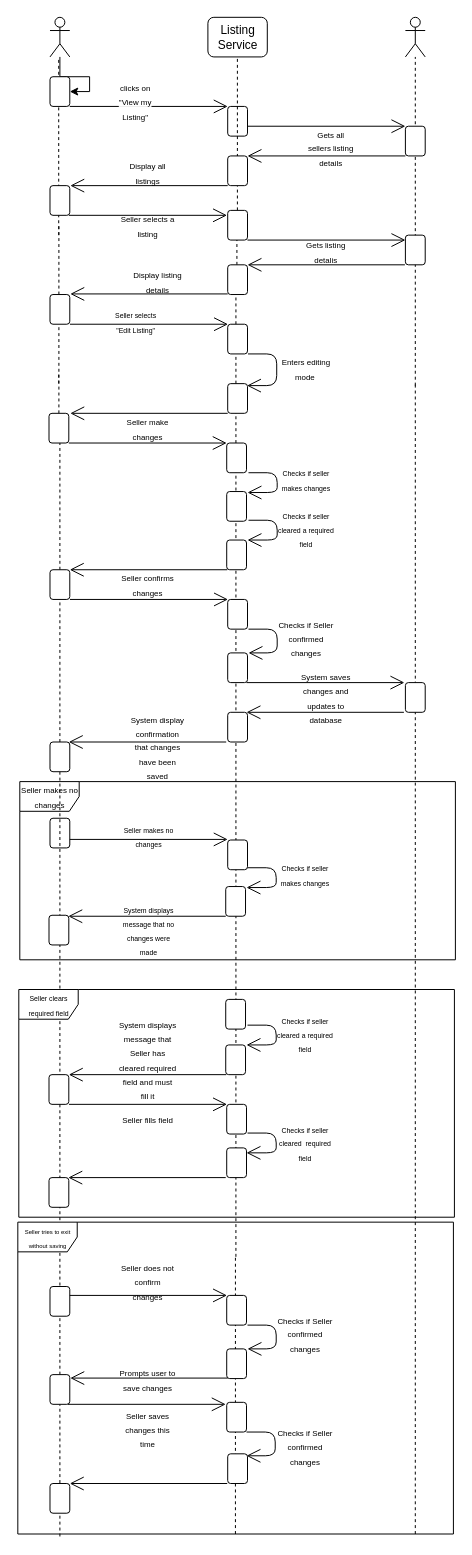
Image size: 472x1555. Some labels were removed from this diagram. Here are the shapes that lost their labels. From the top down, the centre of each, then its label:
(x=59, y=36): Seller
(x=414, y=36): Database
